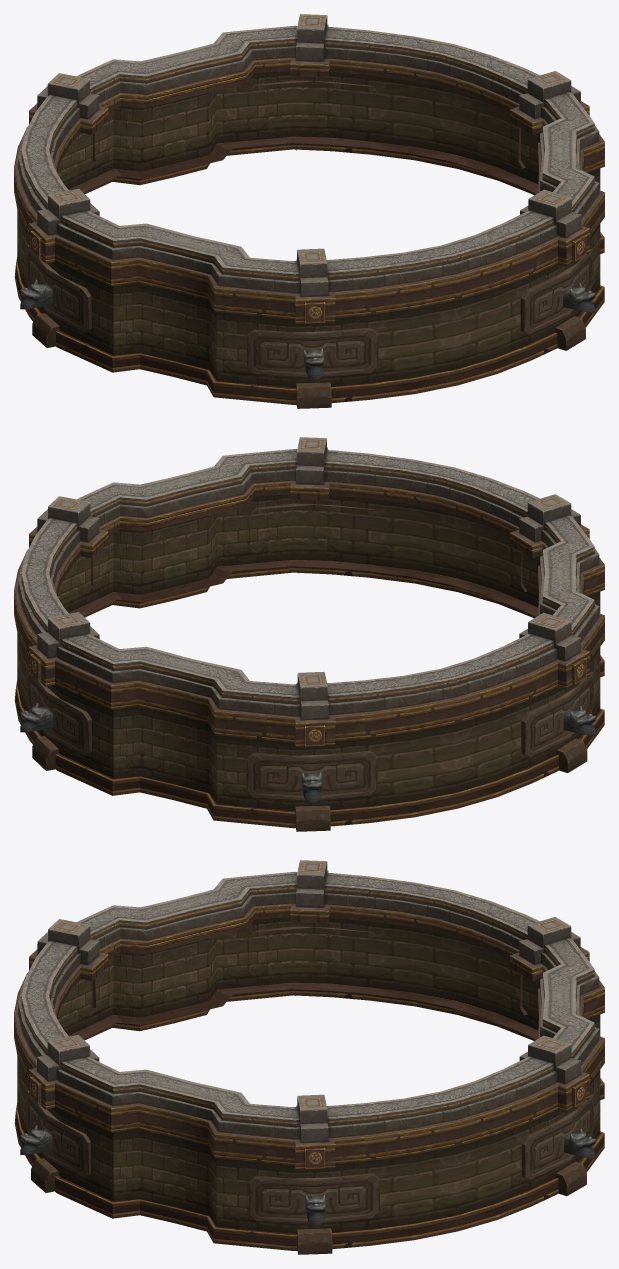
The model's file is fb_jjc_zj_05_a.FBX.
3 renders of one model, top to bottom at view 1: azimuth 30°, elevation 25°; view 2: azimuth 150°, elevation 25°; view 3: azimuth 270°, elevation 25°, orthographic.
Visible parts, largest first — view 1: fb_jjc_zj_05_a; view 2: fb_jjc_zj_05_a; view 3: fb_jjc_zj_05_a.
Part boxes in pixels (x1,y1,x2,y2): fb_jjc_zj_05_a: (14, 14, 604, 408); fb_jjc_zj_05_a: (14, 437, 604, 831); fb_jjc_zj_05_a: (14, 860, 604, 1254).
Size of the model in its own units: 3358 by 771 by 2989.
